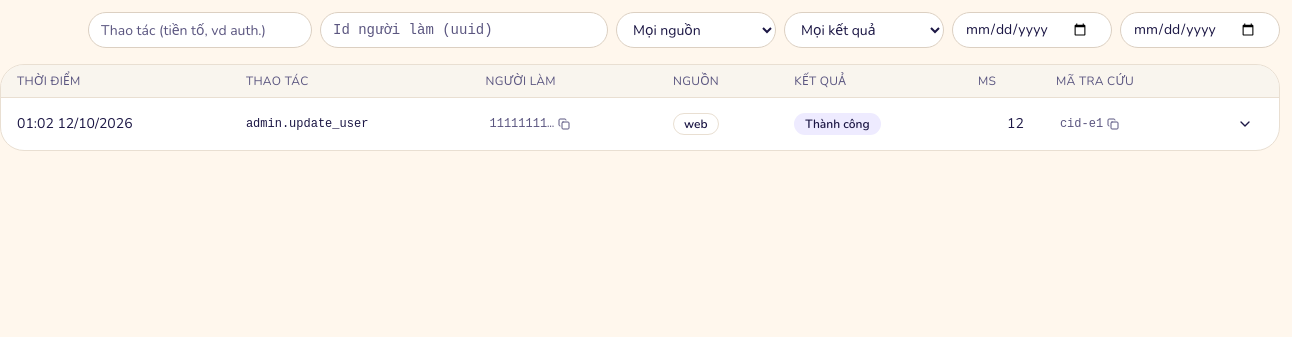
Scenario: EventsPage › desktop: bảng; mở một dòng → JsonView của input
Expected: the text "admin.update_user" is shown, [246,117,368,131]
Click the button with test id "event-toggle-e1".
click(1245, 124)  # box [1227,106,1263,142]
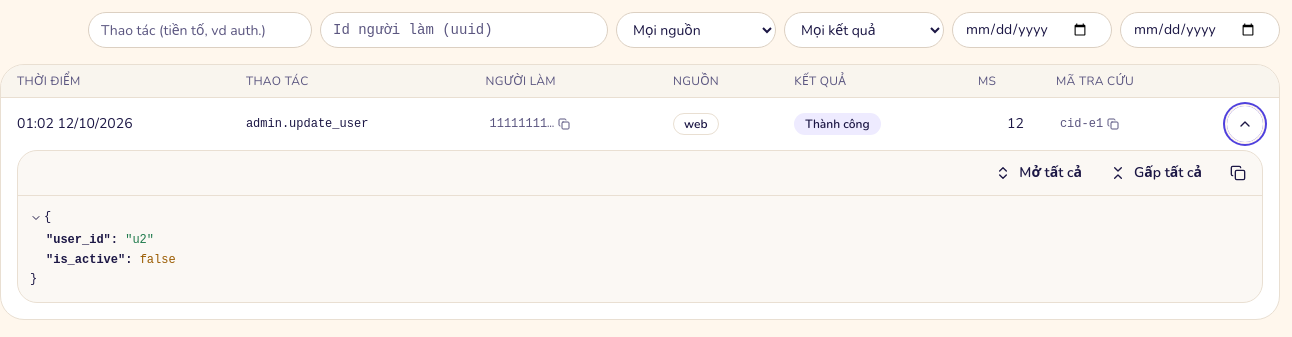
Now the text "\"u2\"" is shown, box [125,233,154,247]
